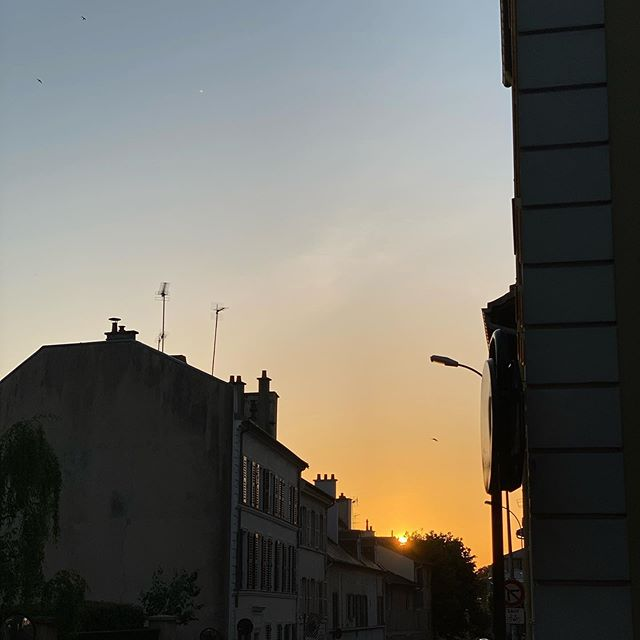building: (1, 324, 285, 638), (502, 1, 640, 636), (331, 527, 431, 640), (288, 479, 334, 640)
sky: (1, 1, 489, 329), (293, 323, 481, 517)
